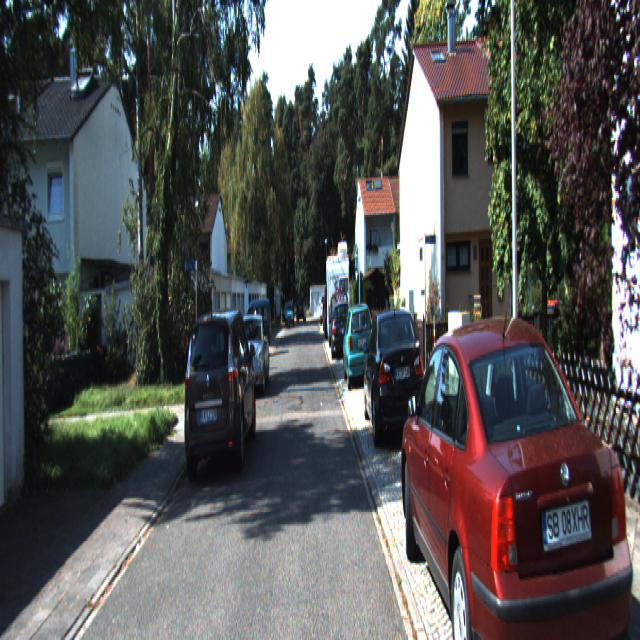Car: (398, 311, 638, 638), (183, 311, 257, 483), (361, 306, 424, 456), (233, 311, 269, 397), (342, 304, 376, 392), (325, 253, 349, 349), (235, 296, 272, 354), (330, 301, 352, 359)
